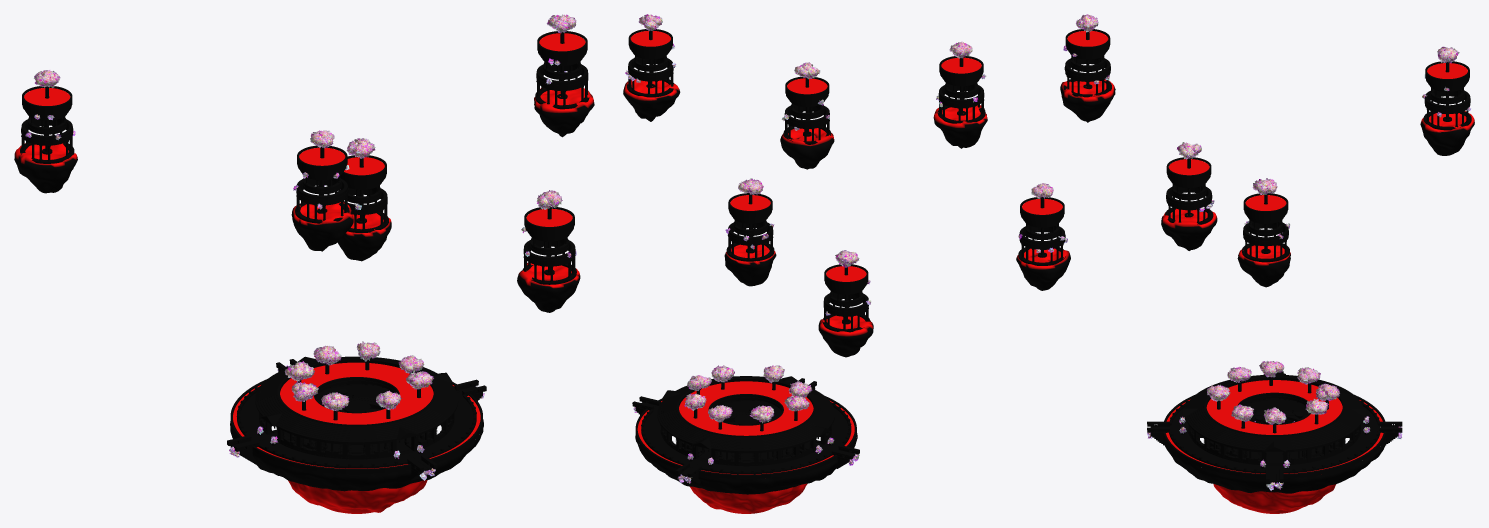
Rendered from Atrium.glb.
3 renders of one model, left to right at view 1: azimuth 30°, elevation 25°; view 2: azimuth 150°, elevation 25°; view 3: azimuth 270°, elevation 25°, orthographic. The views are drawn at different scales.
Visible parts, largest first — view 1: Atrium; view 2: Atrium; view 3: Atrium.
Boxes of the visible parts, box(x1,y1,x2,y2) form: Atrium: box(14, 14, 594, 513); Atrium: box(623, 14, 987, 513); Atrium: box(1016, 14, 1474, 513).
Size of the model in its own units: 124 by 134 by 131.
